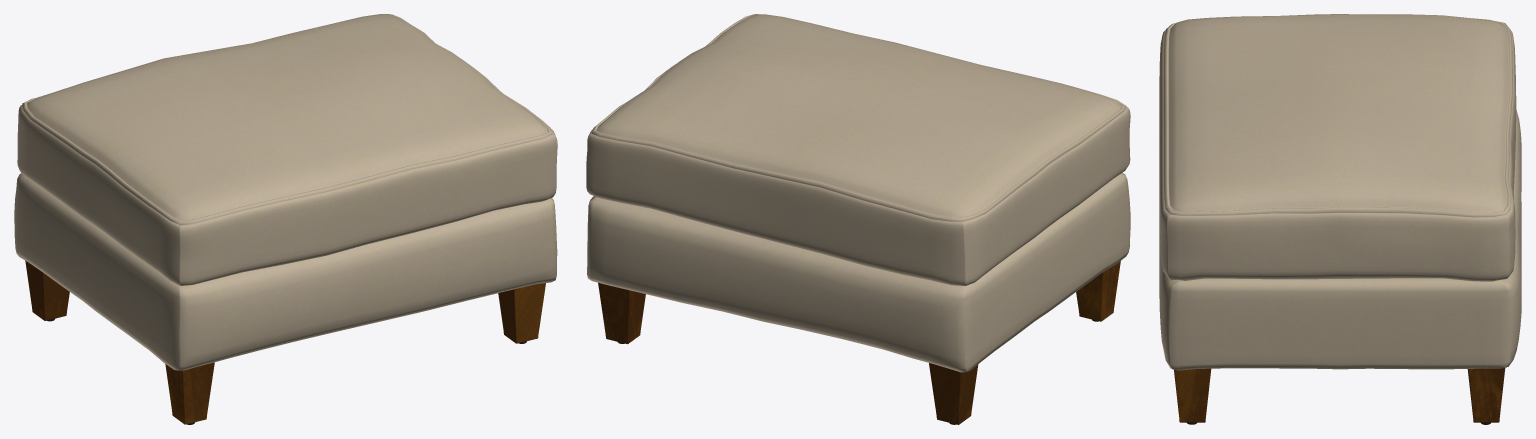
File: sofa_B07B4GSNB1.glb
The picture shows the model from 3 angles, left to right: view 1: azimuth 30°, elevation 25°; view 2: azimuth 150°, elevation 25°; view 3: azimuth 270°, elevation 25°; orthographic projection. The views are drawn at different scales.
Visible parts, largest first — view 1: RootNode; view 2: RootNode; view 3: RootNode.
Boxes of the visible parts, x1=… form: RootNode: x1=14, y1=14, x2=557, y2=424; RootNode: x1=586, y1=14, x2=1130, y2=424; RootNode: x1=1159, y1=14, x2=1521, y2=424.
Bounding box in the file's own units: 0.8184 × 0.4851 × 0.6342.
Materials: 1 (1 with a texture image).
